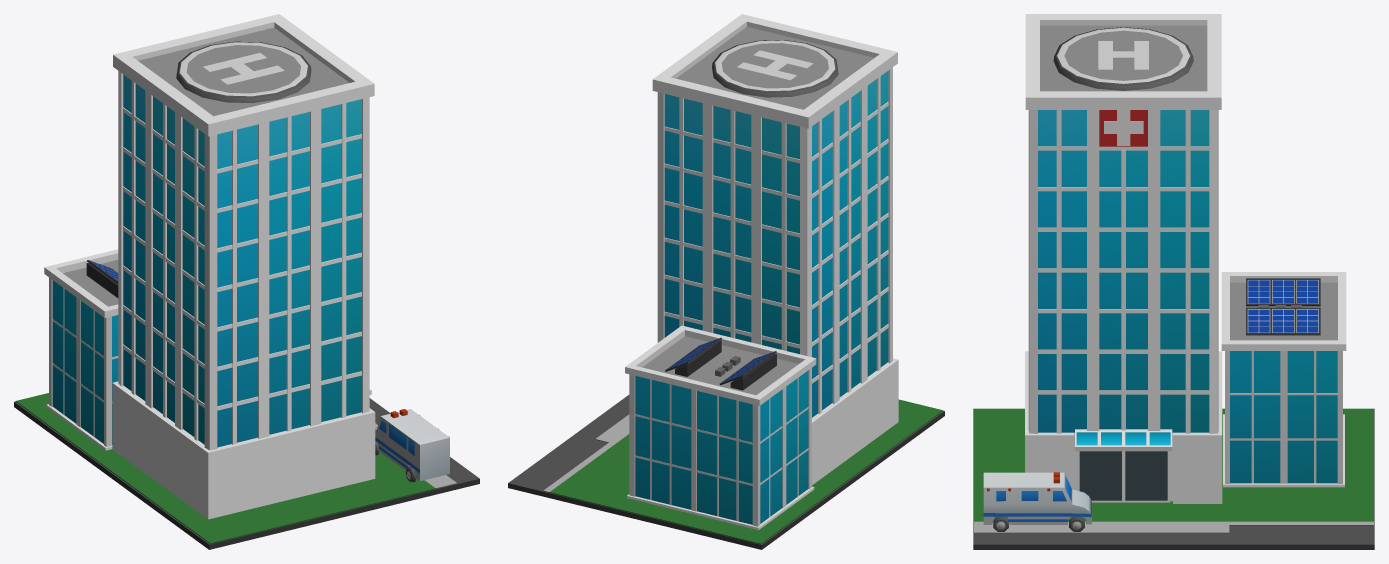
The model's file is Hospital.fbx.
3 views of the same model, side by side, from view 1: azimuth 30°, elevation 25°; view 2: azimuth 150°, elevation 25°; view 3: azimuth 270°, elevation 25° (orthographic). The views are drawn at different scales.
Visible parts, largest first — view 1: Hospital; view 2: Hospital; view 3: Hospital.
Boxes of the visible parts, bbox=[...] form: Hospital: bbox=[14, 14, 479, 549]; Hospital: bbox=[508, 14, 944, 549]; Hospital: bbox=[973, 14, 1374, 549].
Bounding box in the file's own units: 4.8 × 6.8 × 5.99.
